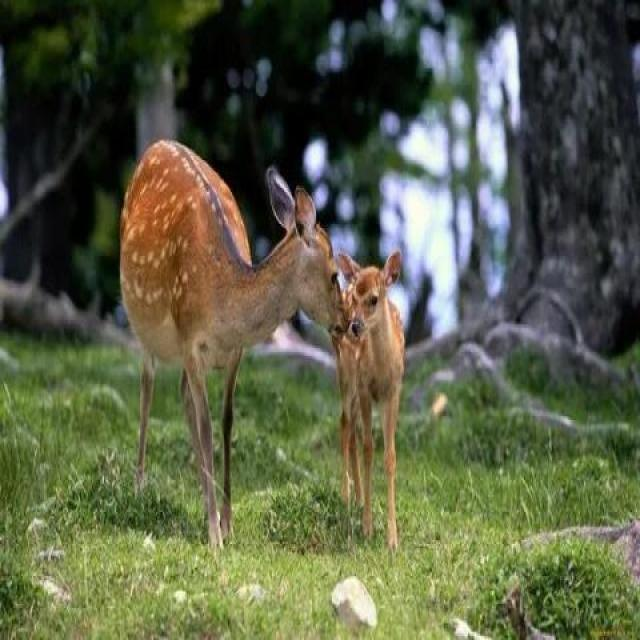deer: (116, 128, 320, 476), (315, 249, 464, 536)
